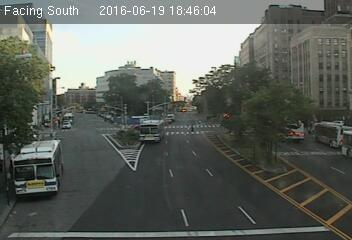neg: (268, 146, 282, 166), (119, 117, 130, 132), (222, 108, 232, 122), (62, 117, 72, 130)
pos: (187, 122, 196, 134)
